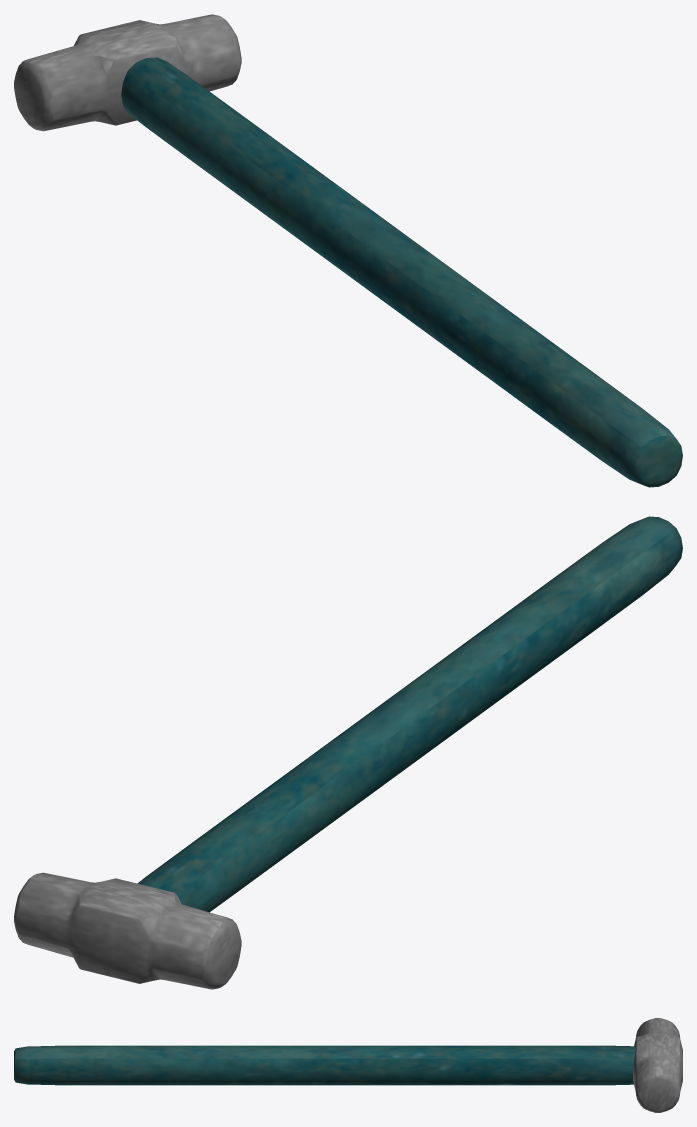
The model's file is SM_Sledge_Hammer.fbx.
3 views of the same model, one above another, from view 1: azimuth 30°, elevation 25°; view 2: azimuth 150°, elevation 25°; view 3: azimuth 270°, elevation 25° (orthographic). The views are drawn at different scales.
Parts seen in each view (by area): view 1: SM_Sledge_Hammer_LOD0; view 2: SM_Sledge_Hammer_LOD0; view 3: SM_Sledge_Hammer_LOD0.
Boxes of the visible parts, <box> form: SM_Sledge_Hammer_LOD0: <box>14,14,682,487</box>; SM_Sledge_Hammer_LOD0: <box>14,516,682,989</box>; SM_Sledge_Hammer_LOD0: <box>14,1018,682,1112</box>.
Size of the model in its own units: 17.52 by 84.78 by 6.38.
2 materials, 2 textured.
